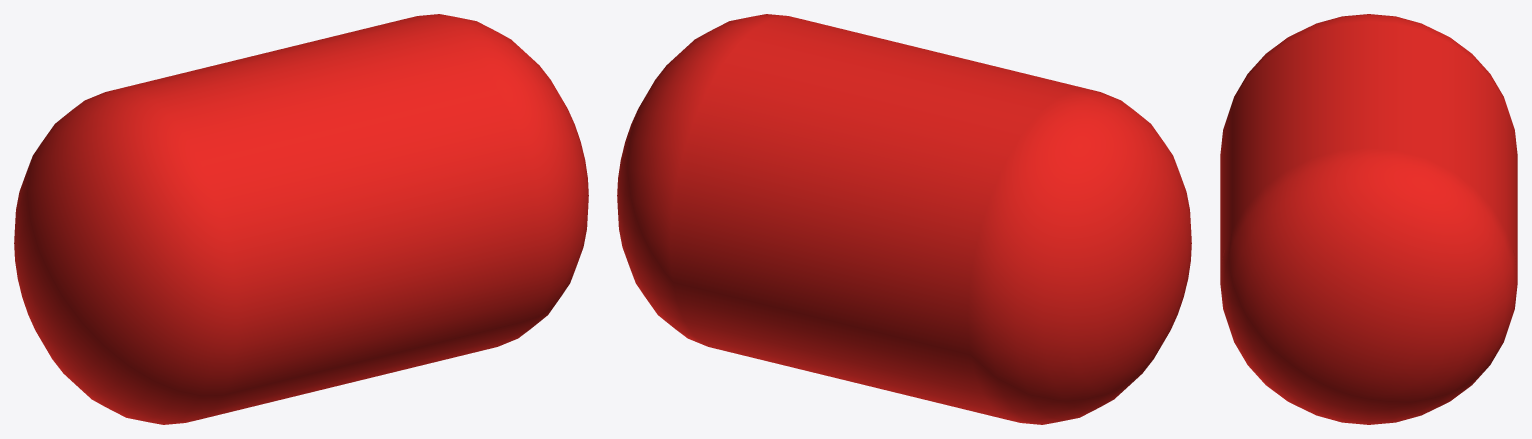
The model's file is simplePill.fbx.
The picture shows the model from 3 angles, left to right: view 1: azimuth 30°, elevation 25°; view 2: azimuth 150°, elevation 25°; view 3: azimuth 270°, elevation 25°; orthographic projection. The views are drawn at different scales.
Visible parts, largest first — view 1: Cylinder; view 2: Cylinder; view 3: Cylinder.
Part boxes in pixels (left/top/right/bottom): Cylinder: left=14, top=14, right=588, bottom=424; Cylinder: left=617, top=14, right=1191, bottom=424; Cylinder: left=1220, top=14, right=1517, bottom=424.
Bounding box in the file's own units: 17.44 × 10 × 10.
